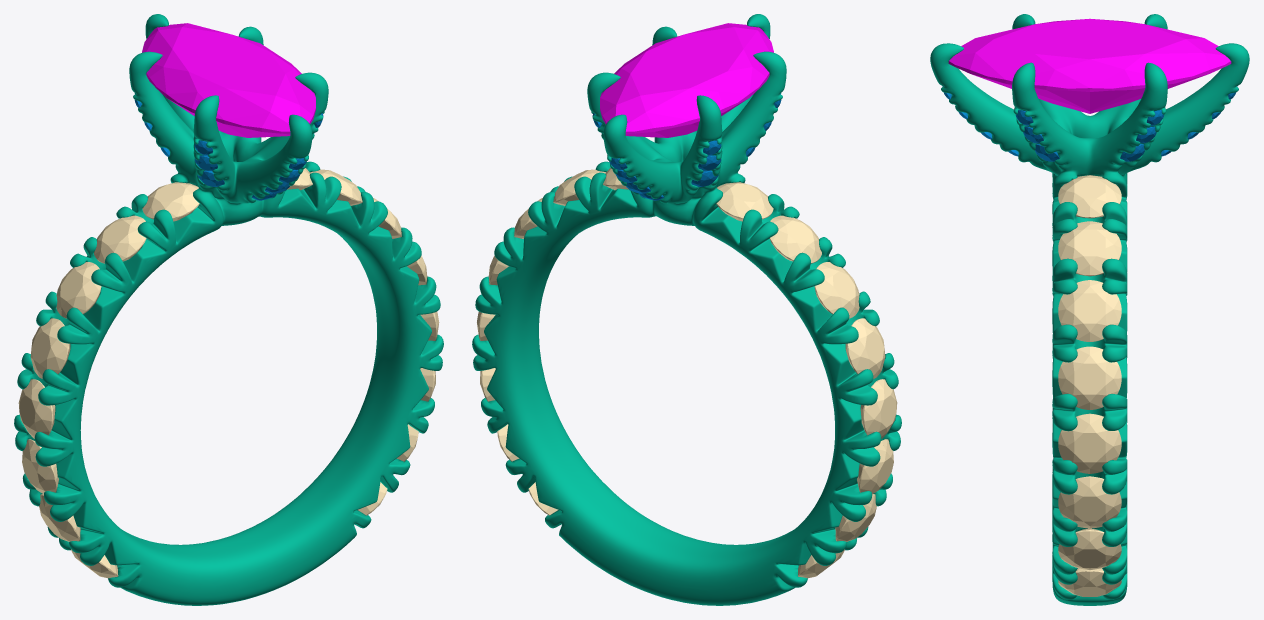
The model's file is BE1D1392_MQ_200ct_RENDER.glb.
3 views of the same model, side by side, from view 1: azimuth 30°, elevation 25°; view 2: azimuth 150°, elevation 25°; view 3: azimuth 270°, elevation 25° (orthographic). The views are drawn at different scales.
Parts seen in each view (by area): view 1: Metal 01, CS_Diamond_Marquise, Diamond_Round_Gem_SH.013, Diamond_Round_Gem_SH.014, Diamond_Round_Gem_SH.012, Diamond_Round_Gem_SH.015, Diamond_Round_Gem_SH.011, Diamond_Round_Gem_SH.010, Diamond_Round_Gem_SH.009, Diamond_Round_Gem_SH.006; view 2: Metal 01, CS_Diamond_Marquise, Diamond_Round_Gem_SH.013, Diamond_Round_Gem_SH.014, Diamond_Round_Gem_SH.012, Diamond_Round_Gem_SH.015, Diamond_Round_Gem_SH.011, Diamond_Round_Gem_SH.010, Diamond_Round_Gem_SH.009, Diamond_Round_Gem_SH.006; view 3: Metal 01, CS_Diamond_Marquise, Diamond_Round_Gem_SH.004, Diamond_Round_Gem_SH.005, Diamond_Round_Gem_SH.003, Diamond_Round_Gem_SH.006, Diamond_Round_Gem_SH.002, Diamond_Round_Gem_SH.007, Diamond_Round_Gem_SH.001, Diamond_Round_Gem_SH.
Boxes of the visible parts, bbox=[...] form: Metal 01: bbox=[14, 14, 443, 605]; CS_Diamond_Marquise: bbox=[142, 23, 315, 137]; Diamond_Round_Gem_SH.013: bbox=[56, 262, 101, 318]; Diamond_Round_Gem_SH.014: bbox=[94, 215, 146, 263]; Diamond_Round_Gem_SH.012: bbox=[30, 318, 70, 378]; Diamond_Round_Gem_SH.015: bbox=[142, 182, 199, 221]; Diamond_Round_Gem_SH.011: bbox=[18, 379, 55, 438]; Diamond_Round_Gem_SH.010: bbox=[22, 439, 58, 494]; Diamond_Round_Gem_SH.009: bbox=[39, 494, 80, 541]; Diamond_Round_Gem_SH.006: bbox=[310, 169, 362, 205]; Metal 01: bbox=[472, 14, 901, 605]; CS_Diamond_Marquise: bbox=[600, 23, 773, 137]; Diamond_Round_Gem_SH.013: bbox=[814, 262, 859, 318]; Diamond_Round_Gem_SH.014: bbox=[769, 215, 821, 263]; Diamond_Round_Gem_SH.012: bbox=[845, 318, 885, 378]; Diamond_Round_Gem_SH.015: bbox=[716, 182, 773, 221]; Diamond_Round_Gem_SH.011: bbox=[860, 379, 897, 438]; Diamond_Round_Gem_SH.010: bbox=[857, 439, 893, 494]; Diamond_Round_Gem_SH.009: bbox=[835, 494, 876, 541]; Diamond_Round_Gem_SH.006: bbox=[553, 169, 605, 205]; Metal 01: bbox=[930, 14, 1249, 605]; CS_Diamond_Marquise: bbox=[948, 18, 1231, 113]; Diamond_Round_Gem_SH.004: bbox=[1058, 346, 1121, 409]; Diamond_Round_Gem_SH.005: bbox=[1058, 280, 1121, 341]; Diamond_Round_Gem_SH.003: bbox=[1058, 413, 1121, 473]; Diamond_Round_Gem_SH.006: bbox=[1058, 221, 1121, 276]; Diamond_Round_Gem_SH.002: bbox=[1058, 476, 1121, 528]; Diamond_Round_Gem_SH.007: bbox=[1058, 175, 1121, 218]; Diamond_Round_Gem_SH.001: bbox=[1058, 528, 1121, 570]; Diamond_Round_Gem_SH: bbox=[1058, 568, 1121, 596].
Bounding box in the file's own units: 21.15 × 26.45 × 14.07.
